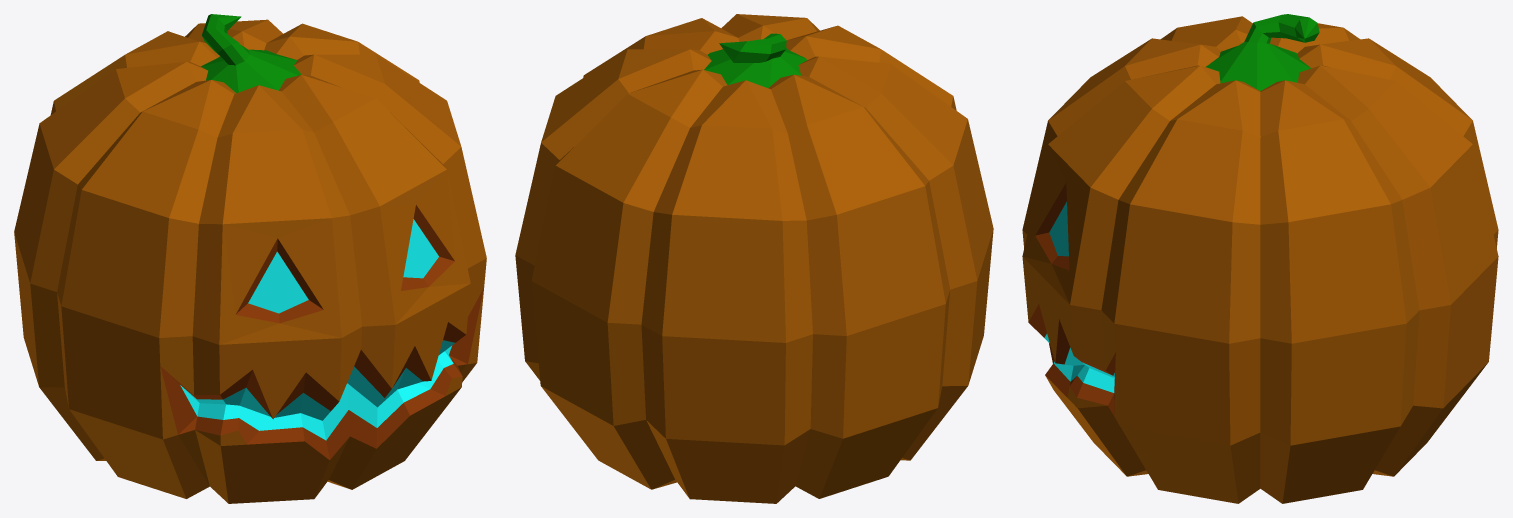
Rendered from HalloweenModels_01.fbx.
3 renders of one model, left to right at view 1: azimuth 30°, elevation 25°; view 2: azimuth 150°, elevation 25°; view 3: azimuth 270°, elevation 25°, orthographic.
Parts seen in each view (by area): view 1: H_01_Head1; view 2: H_01_Head1; view 3: H_01_Head1.
Part boxes in pixels (x1,y1,x2,y2): H_01_Head1: [14, 14, 486, 503]; H_01_Head1: [515, 14, 993, 503]; H_01_Head1: [1022, 14, 1498, 503].
Bounding box in the file's own units: 100 × 100 × 100.
2 materials, 2 textured.
